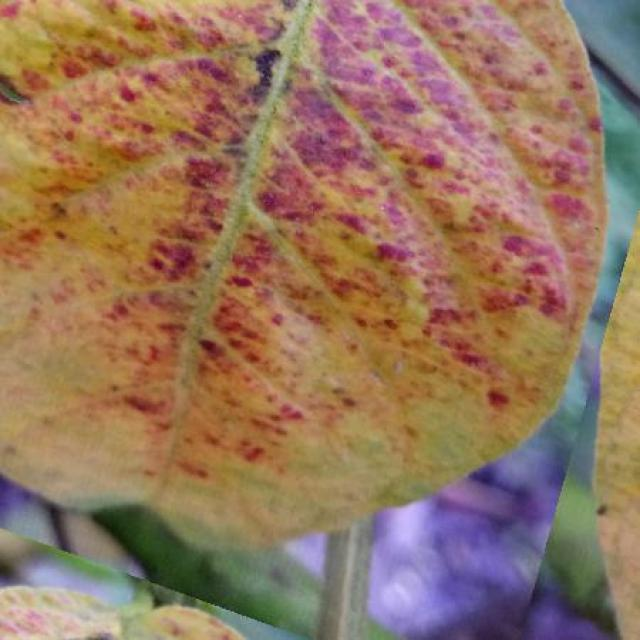Red Rust: (0, 1, 605, 544)
